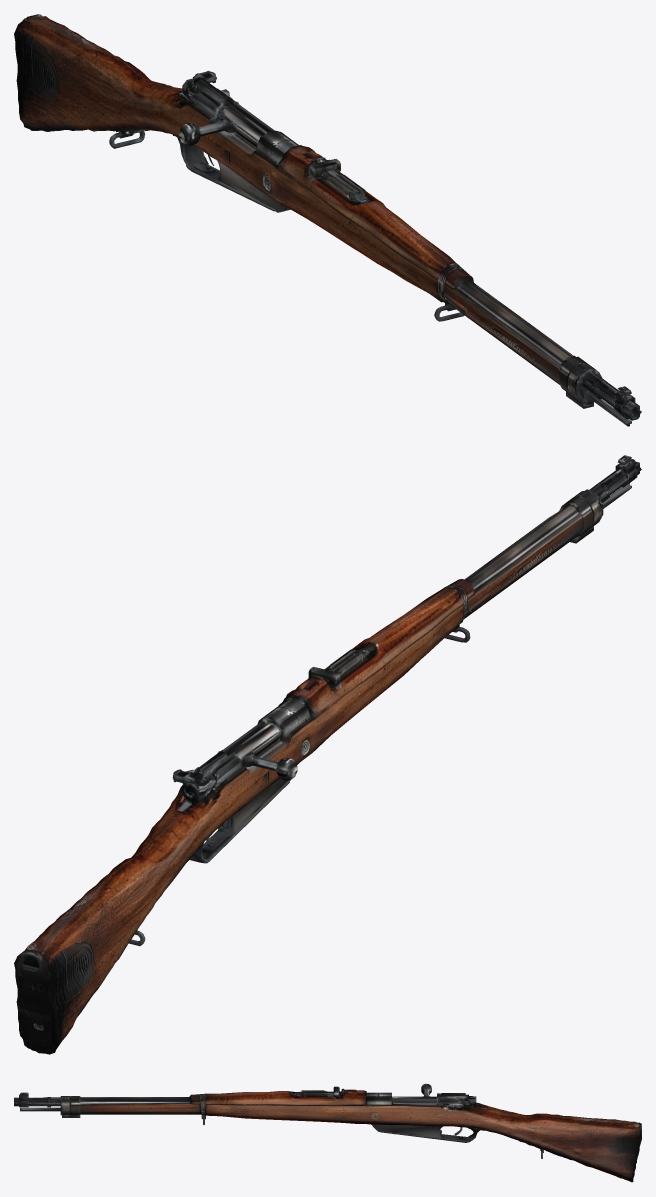
File: hanyang88.glb
3 renders of one model, top to bottom at view 1: azimuth 30°, elevation 25°; view 2: azimuth 150°, elevation 25°; view 3: azimuth 270°, elevation 25°, orthographic. The views are drawn at different scales.
Parts seen in each view (by area): view 1: hanyang88_Object_4, hanyang88_Object_5, hanyang88_Object_3; view 2: hanyang88_Object_4, hanyang88_Object_5, hanyang88_Object_3; view 3: hanyang88_Object_4, hanyang88_Object_5, hanyang88_Object_3.
Boxes of the visible parts, x1,y1,x2,y2 form: hanyang88_Object_4: [14, 14, 641, 426]; hanyang88_Object_5: [116, 88, 467, 314]; hanyang88_Object_3: [109, 70, 464, 321]; hanyang88_Object_4: [14, 455, 641, 1054]; hanyang88_Object_5: [33, 585, 491, 1028]; hanyang88_Object_3: [128, 627, 470, 946]; hanyang88_Object_4: [14, 1086, 641, 1182]; hanyang88_Object_5: [201, 1089, 546, 1152]; hanyang88_Object_3: [203, 1083, 542, 1158].
Bounding box in the file's own units: 0.0952 × 0.1981 × 1.25.
Materials: 4 (4 with a texture image).
